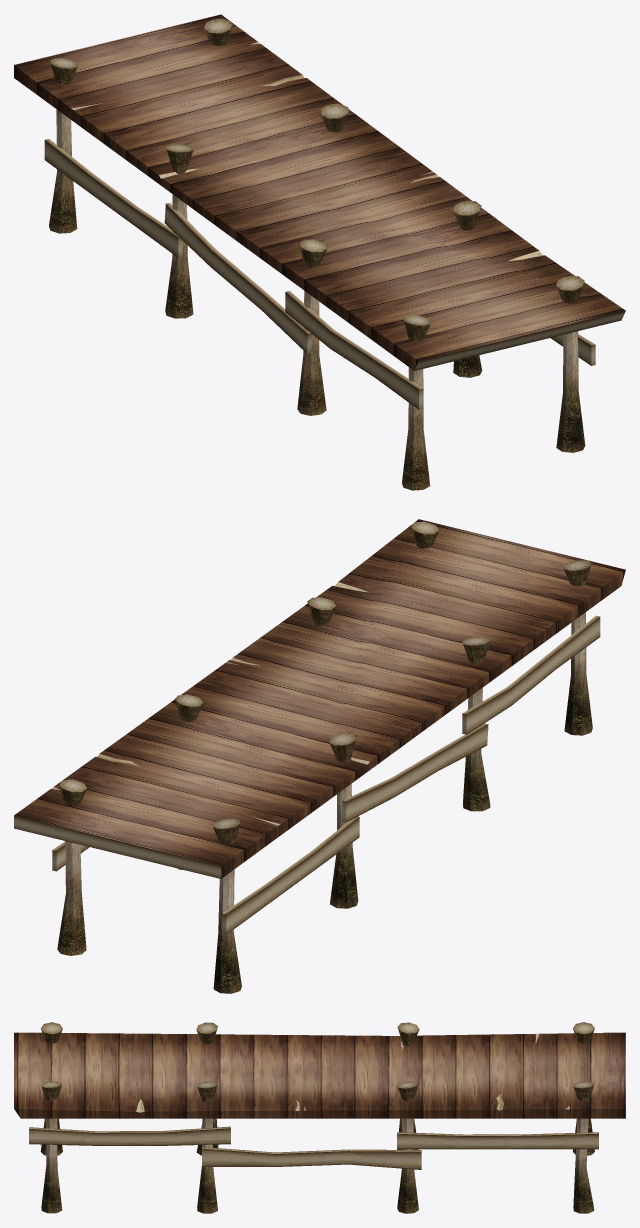
File: p2_platform2_I_LOD0.fbx
3 views of the same model, one above another, from view 1: azimuth 30°, elevation 25°; view 2: azimuth 150°, elevation 25°; view 3: azimuth 270°, elevation 25° (orthographic). The views are drawn at different scales.
Parts seen in each view (by area): view 1: polymsh; view 2: polymsh; view 3: polymsh.
Part boxes in pixels (x1,y1,x2,y2): polymsh: (14,14,625,490); polymsh: (14,519,625,993); polymsh: (14,1022,625,1213).
Size of the model in its own units: 100 by 76.64 by 338.
